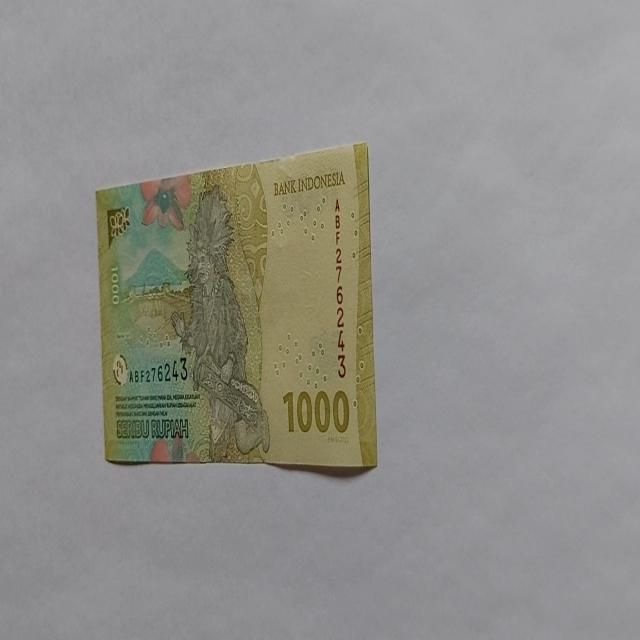seribu rupiah kertas: (95, 140, 378, 470), (170, 183, 268, 461)
